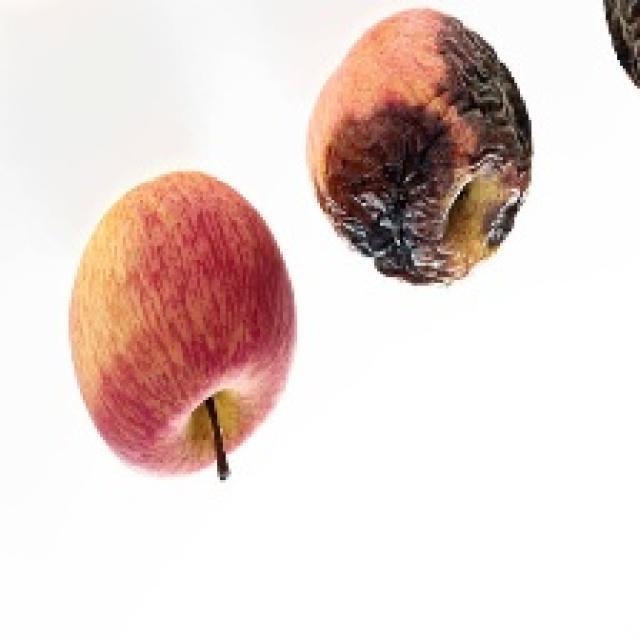rotten_apple: (313, 13, 533, 275)
